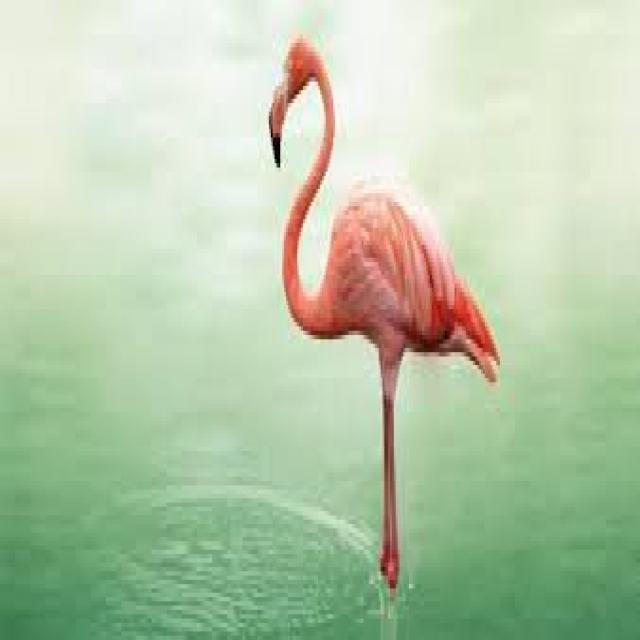Flamingo: (264, 26, 504, 584)
